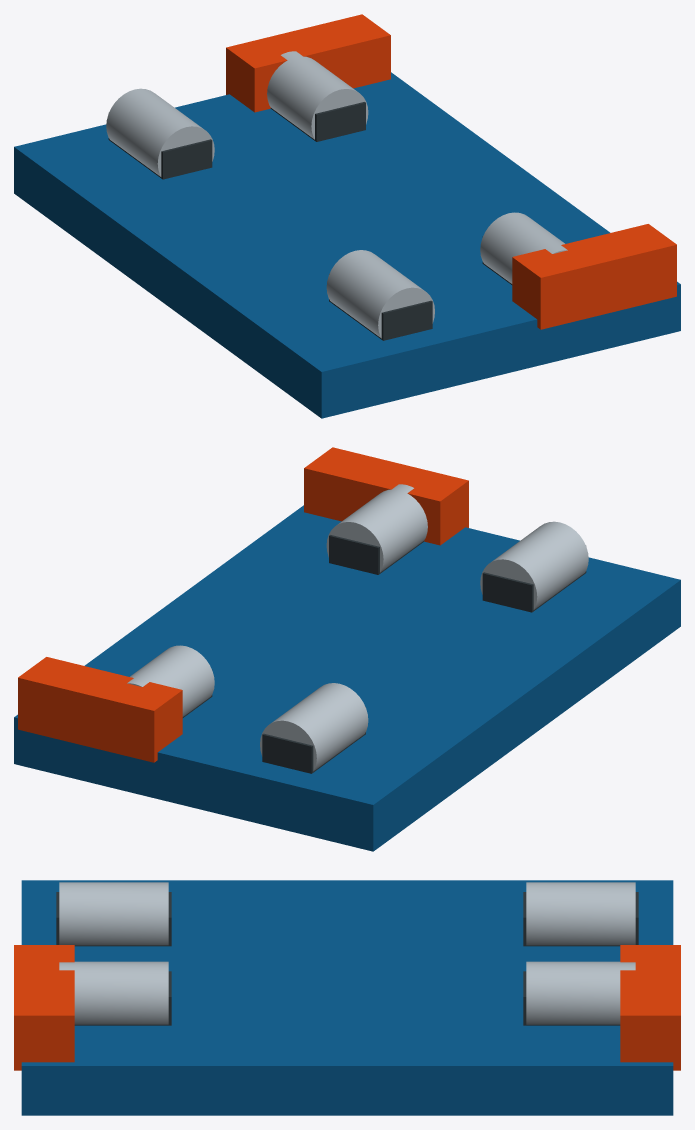
File: roller_stand.dae
3 renders of one model, top to bottom at view 1: azimuth 30°, elevation 25°; view 2: azimuth 150°, elevation 25°; view 3: azimuth 270°, elevation 25°, orthographic. The views are drawn at different scales.
Parts seen in each view (by area): view 1: roller_stand; view 2: roller_stand; view 3: roller_stand.
Part boxes in pixels (left/top/right/bottom): roller_stand: left=14, top=14, right=680, bottom=418; roller_stand: left=14, top=447, right=680, bottom=851; roller_stand: left=14, top=880, right=680, bottom=1115.
Bounding box in the file's own units: 1.45 × 2.2 × 0.355.
